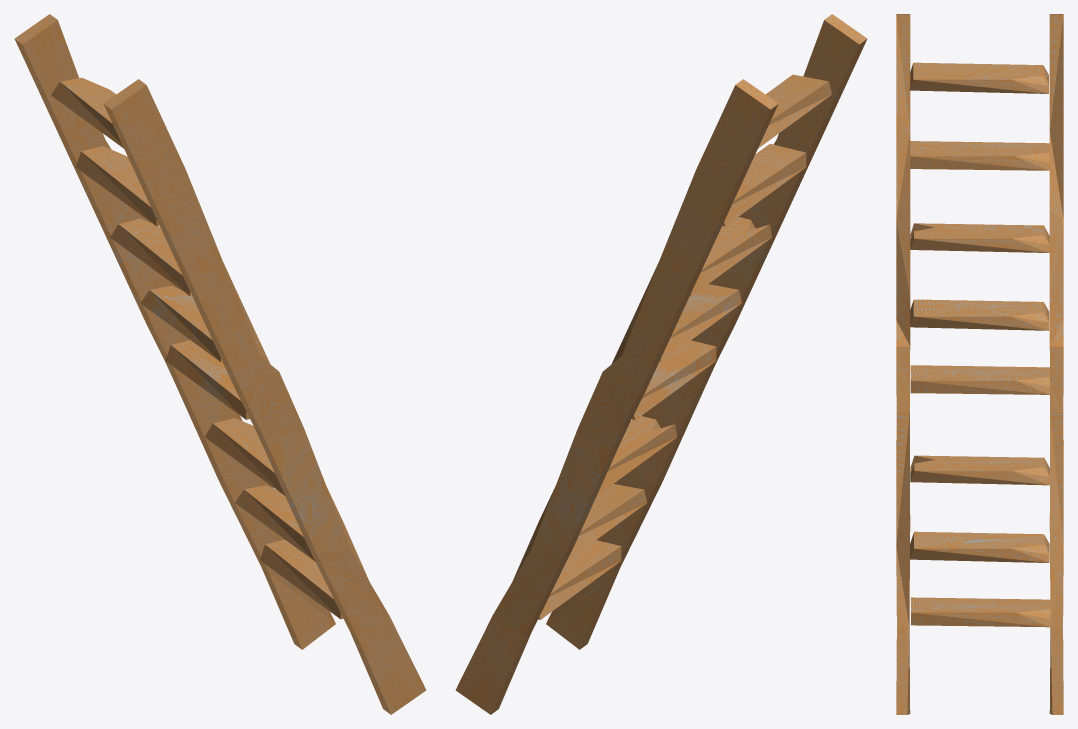
Rendered from Stairs4.fbx.
3 renders of one model, left to right at view 1: azimuth 30°, elevation 25°; view 2: azimuth 150°, elevation 25°; view 3: azimuth 270°, elevation 25°, orthographic. The views are drawn at different scales.
Visible parts, largest first — view 1: Group2, Group5, Group1, Group9, Group10, Group7, Group6, Group3, Group4, Group8; view 2: Group5, Group2, Group1, Group9, Group6, Group7, Group10, Group3, Group8, Group4; view 3: Group5, Group2, Group6, Group4, Group8, Group9, Group1, Group10, Group3, Group7.
Part boxes in pixels (<box>): Group2: <box>103,79,426,714</box>; Group5: <box>14,14,335,649</box>; Group1: <box>76,146,159,226</box>; Group9: <box>165,340,249,419</box>; Group10: <box>260,539,343,619</box>; Group7: <box>110,218,191,296</box>; Group6: <box>140,286,222,362</box>; Group3: <box>204,418,284,495</box>; Group4: <box>235,485,315,561</box>; Group8: <box>51,77,123,148</box>; Group5: <box>455,79,778,714</box>; Group2: <box>546,14,867,649</box>; Group1: <box>722,144,806,226</box>; Group9: <box>632,340,716,420</box>; Group6: <box>659,284,741,361</box>; Group7: <box>690,217,771,296</box>; Group10: <box>538,540,621,619</box>; Group3: <box>597,416,677,495</box>; Group8: <box>758,74,831,148</box>; Group4: <box>566,484,647,561</box>; Group5: <box>1049,14,1063,714</box>; Group2: <box>896,14,910,714</box>; Group6: <box>910,299,1049,330</box>; Group4: <box>910,531,1049,562</box>; Group8: <box>909,62,1048,93</box>; Group9: <box>910,365,1049,394</box>; Group1: <box>910,141,1049,170</box>; Group10: <box>911,597,1050,627</box>; Group3: <box>910,455,1049,485</box>; Group7: <box>910,223,1049,252</box>.
Size of the model in its own units: 1126 by 2355 by 600.
